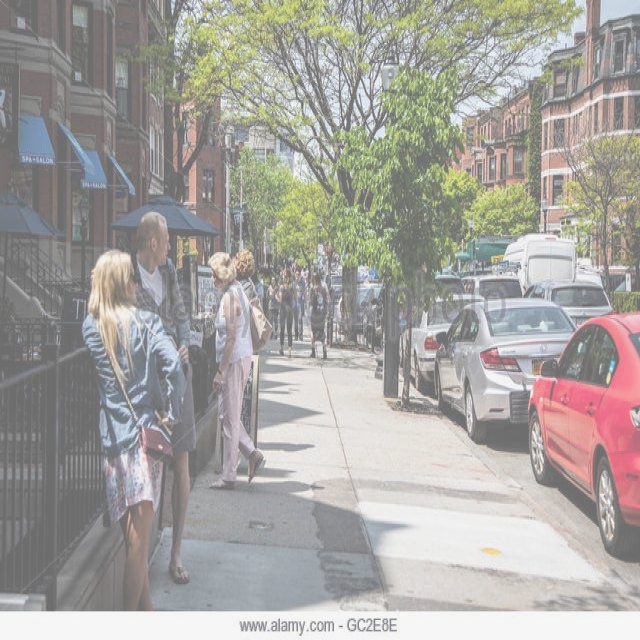pessoa: (77, 244, 186, 638), (129, 208, 196, 588), (206, 249, 266, 493), (306, 269, 330, 362), (273, 268, 295, 358), (229, 246, 257, 304), (263, 272, 282, 342), (355, 292, 385, 334), (291, 266, 307, 342), (478, 254, 523, 280), (320, 268, 334, 348), (334, 290, 345, 344), (301, 266, 309, 326), (288, 266, 294, 328), (460, 274, 475, 296)
